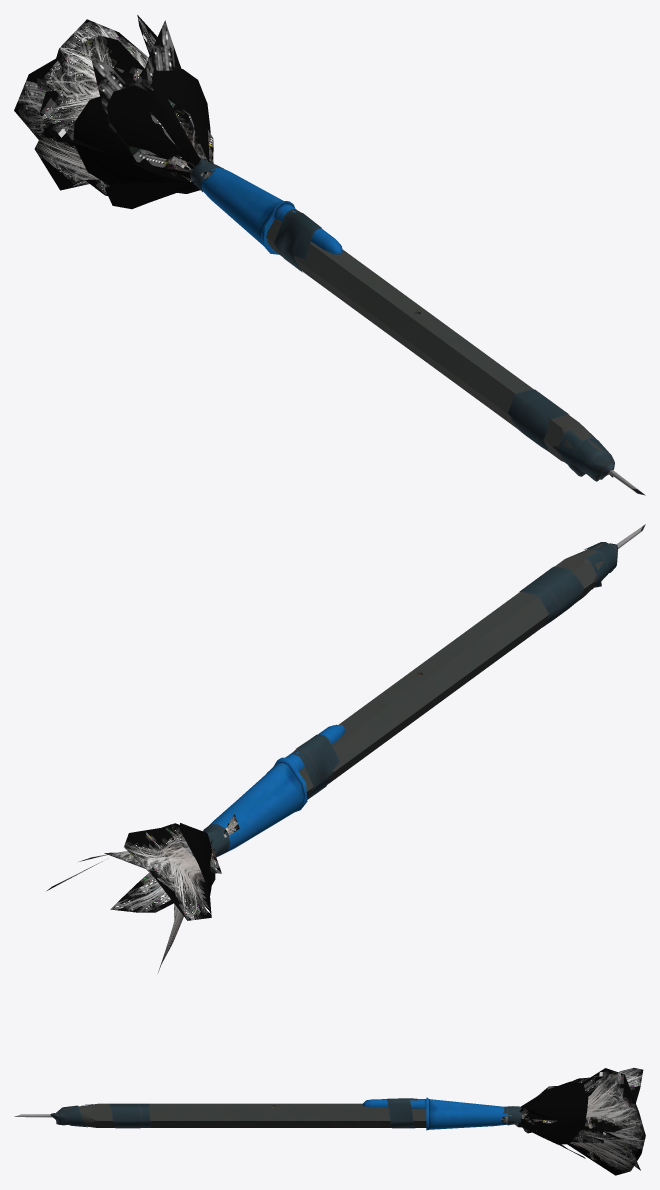
The model's file is incapacitatedart.glb.
3 views of the same model, one above another, from view 1: azimuth 30°, elevation 25°; view 2: azimuth 150°, elevation 25°; view 3: azimuth 270°, elevation 25° (orthographic). The views are drawn at different scales.
Parts seen in each view (by area): view 1: v_IncapacitateDart; view 2: v_IncapacitateDart; view 3: v_IncapacitateDart.
Boxes of the visible parts, bbox=[...] form: v_IncapacitateDart: bbox=[14, 15, 645, 495]; v_IncapacitateDart: bbox=[47, 524, 645, 972]; v_IncapacitateDart: bbox=[14, 1067, 645, 1175].
Bounding box in the file's own units: 0.0397 × 0.0429 × 0.2332.
2 materials, 2 textured.
